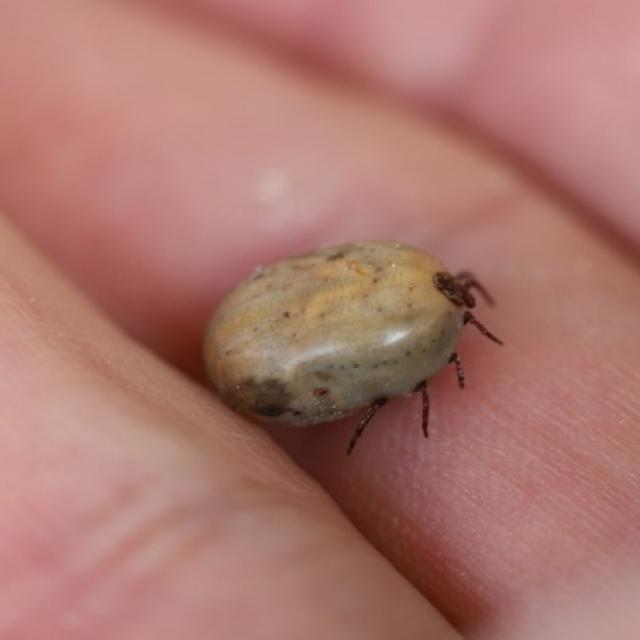Dermacentor Reticulatus-F-Fed: (202, 240, 505, 455)
